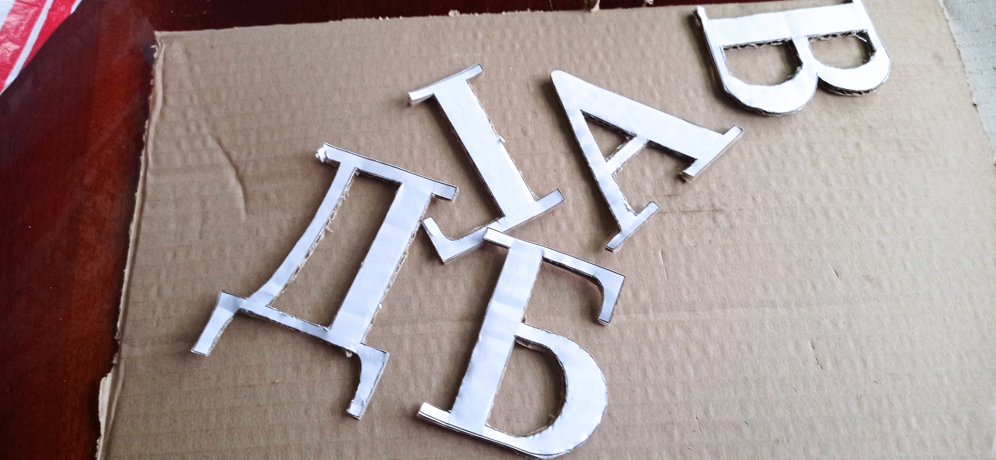a: (550, 68, 744, 254)
b: (416, 226, 626, 460)
d: (192, 143, 459, 422)
g: (407, 61, 566, 266)
v: (692, 4, 891, 116)
